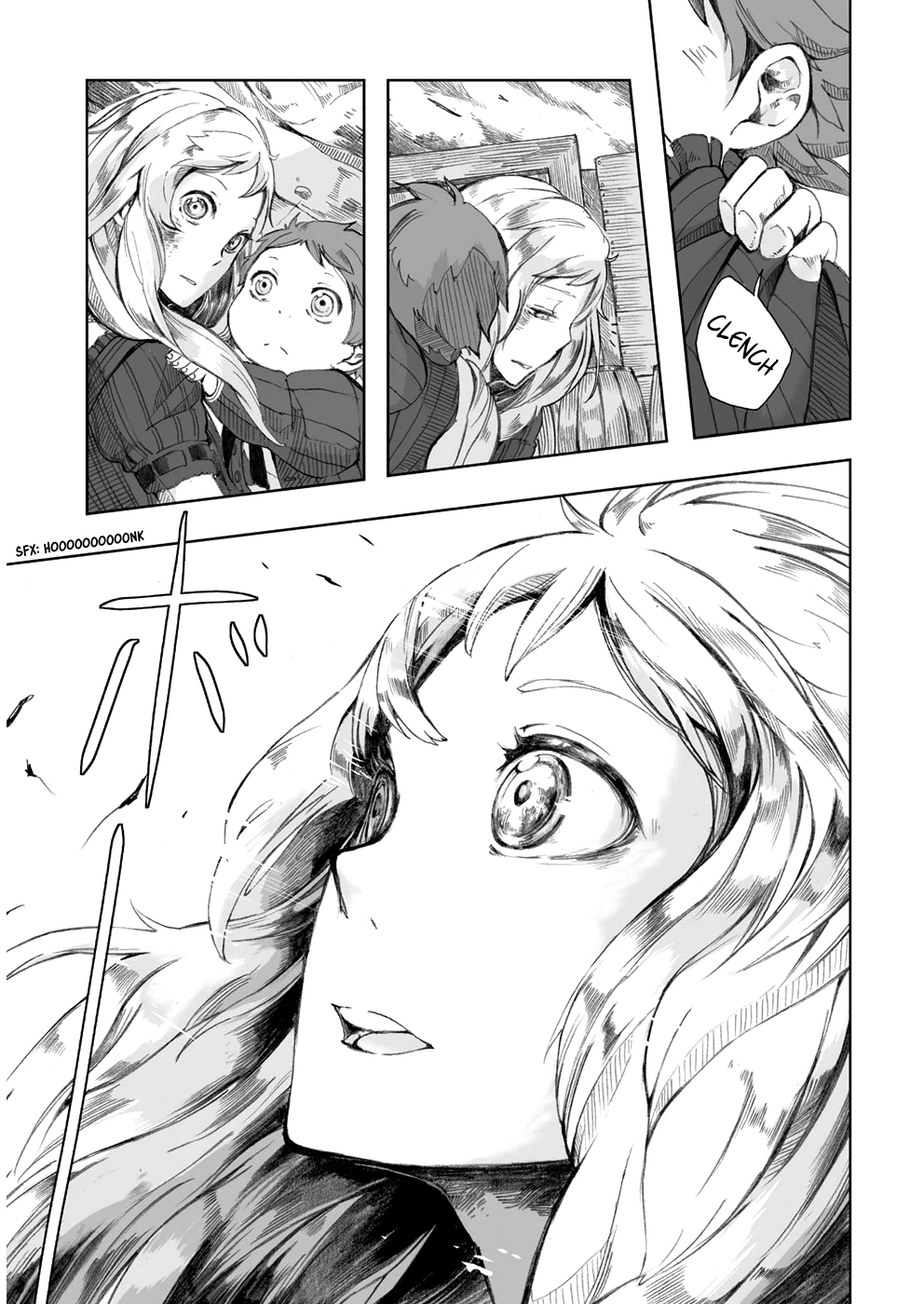bubble: (697, 272, 792, 410)
